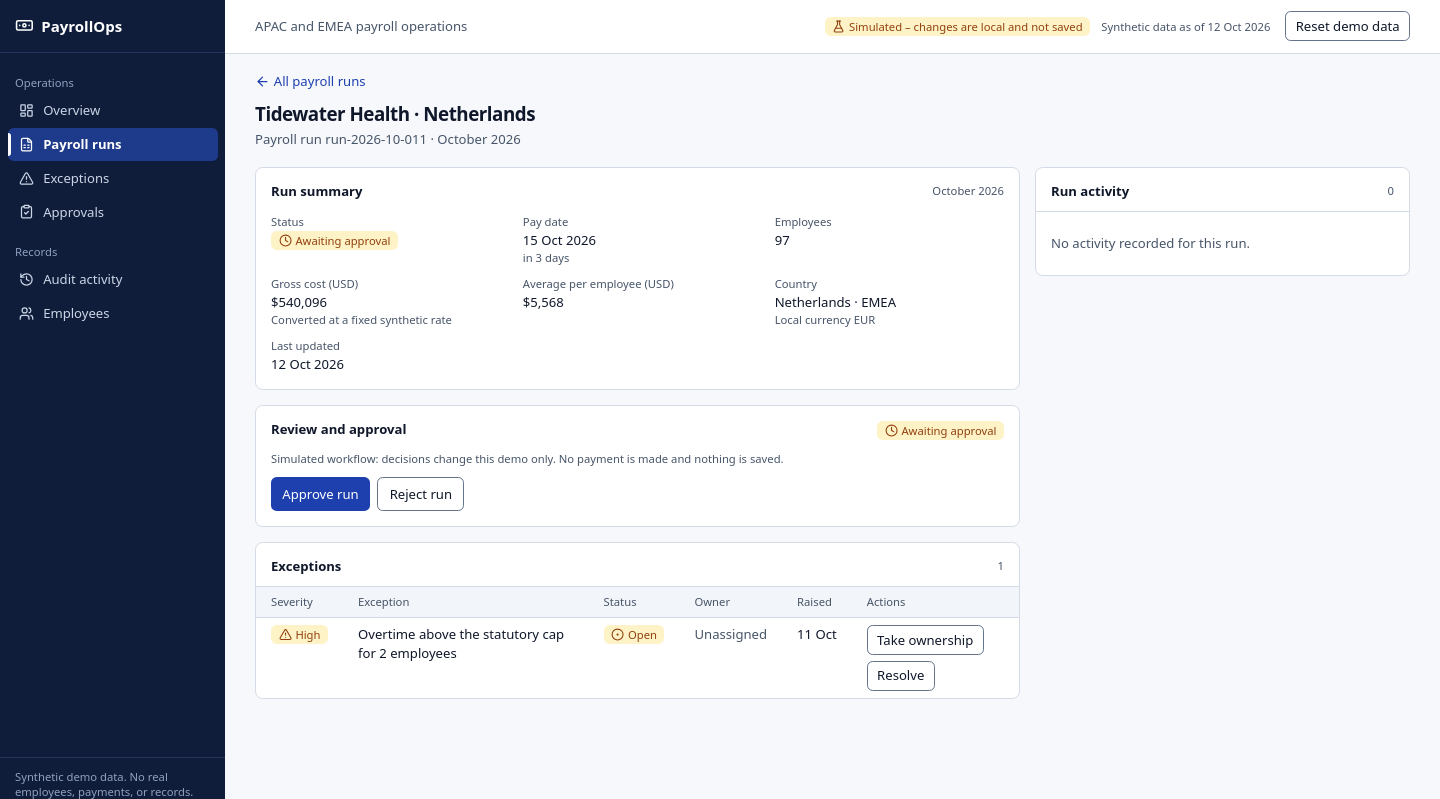
rejecting a run › requires a valid reason, explains the problem accessibly, and keeps the run unchanged until it is valid
Click the button "Reject run": (421, 494) [377,477,464,511]
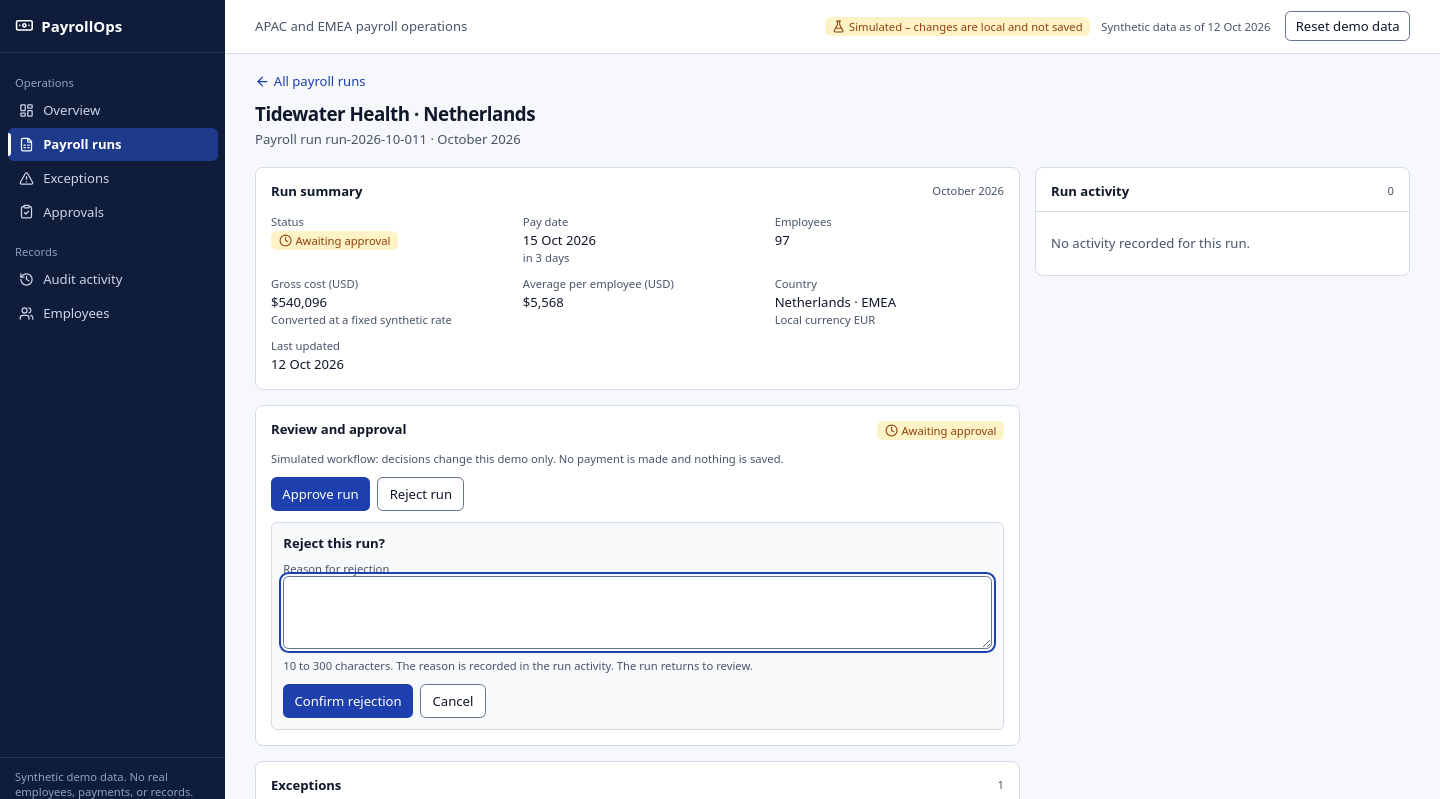
Click the button "Confirm rejection": (348, 701) [283,684,413,718]
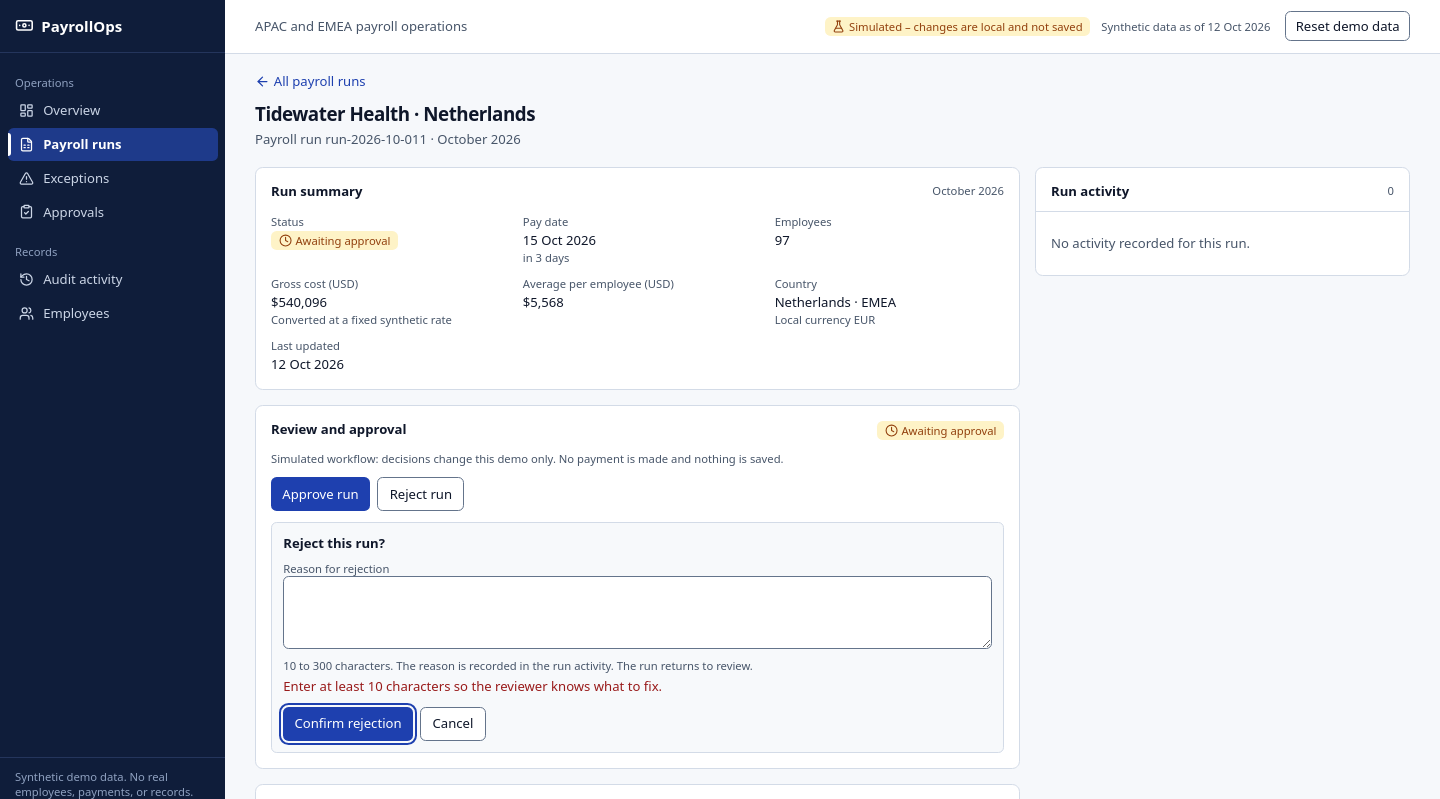
expect the text "Awaiting approval" next to "15 Oct 2026" is shown: met, box [295,233,390,248]
expect the message shows "Enter at least 10 characters": met, box [283,677,662,695]
In the text box labelled "Reason for rejection": (638, 612) [283,576,992,649], type "too short"
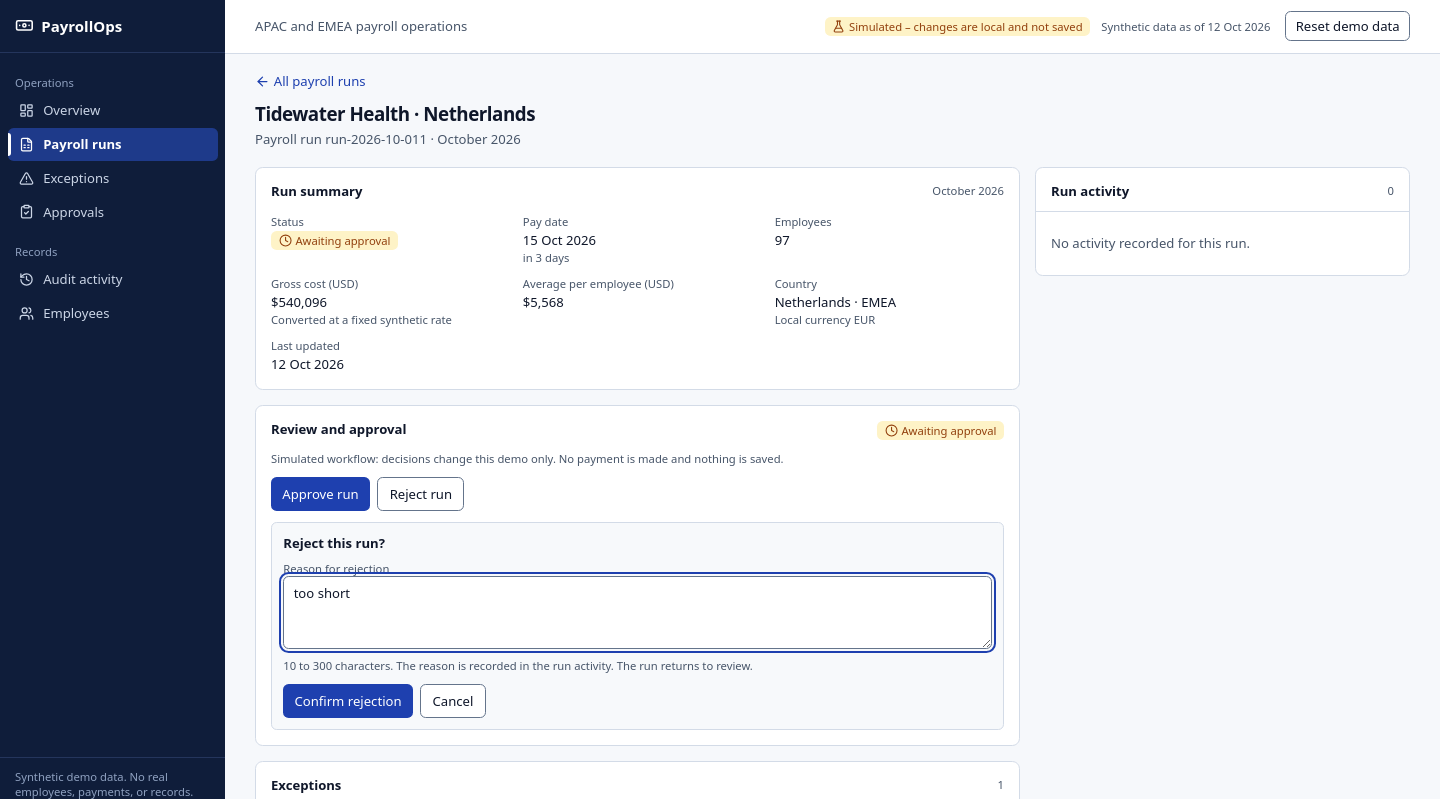
expect the message "Enter at least 10 characters so the reviewer knows what to fix." is gone: met
Click the button "Confirm rejection": (348, 701) [283,684,413,718]
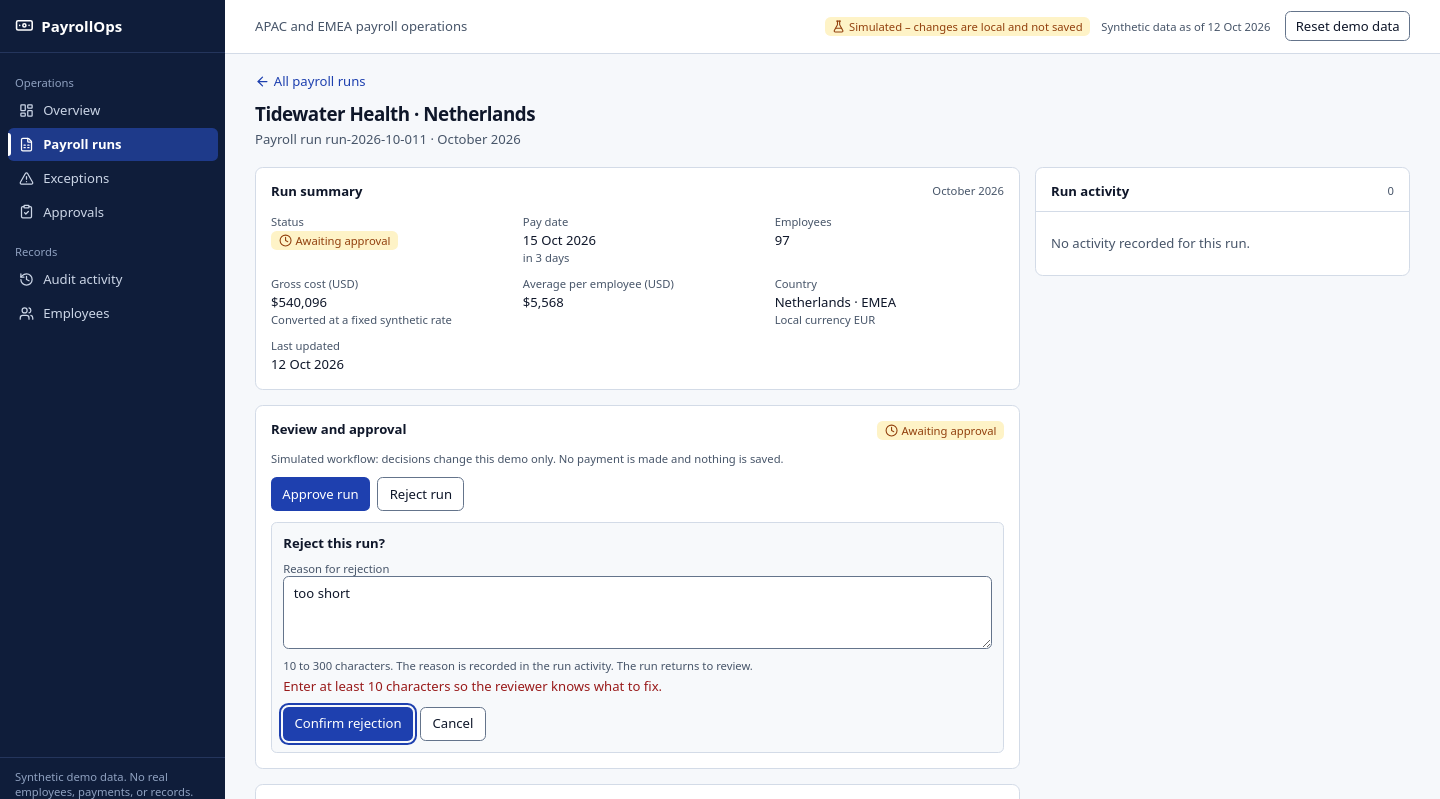
expect the message "Enter at least 10 characters so the reviewer knows what to fix." is shown: met, box [283,677,662,695]
Replace the text in the text box labelled "Reason for rejection" with "Overtime lines need a second review.": (638, 612) [283,576,992,649]
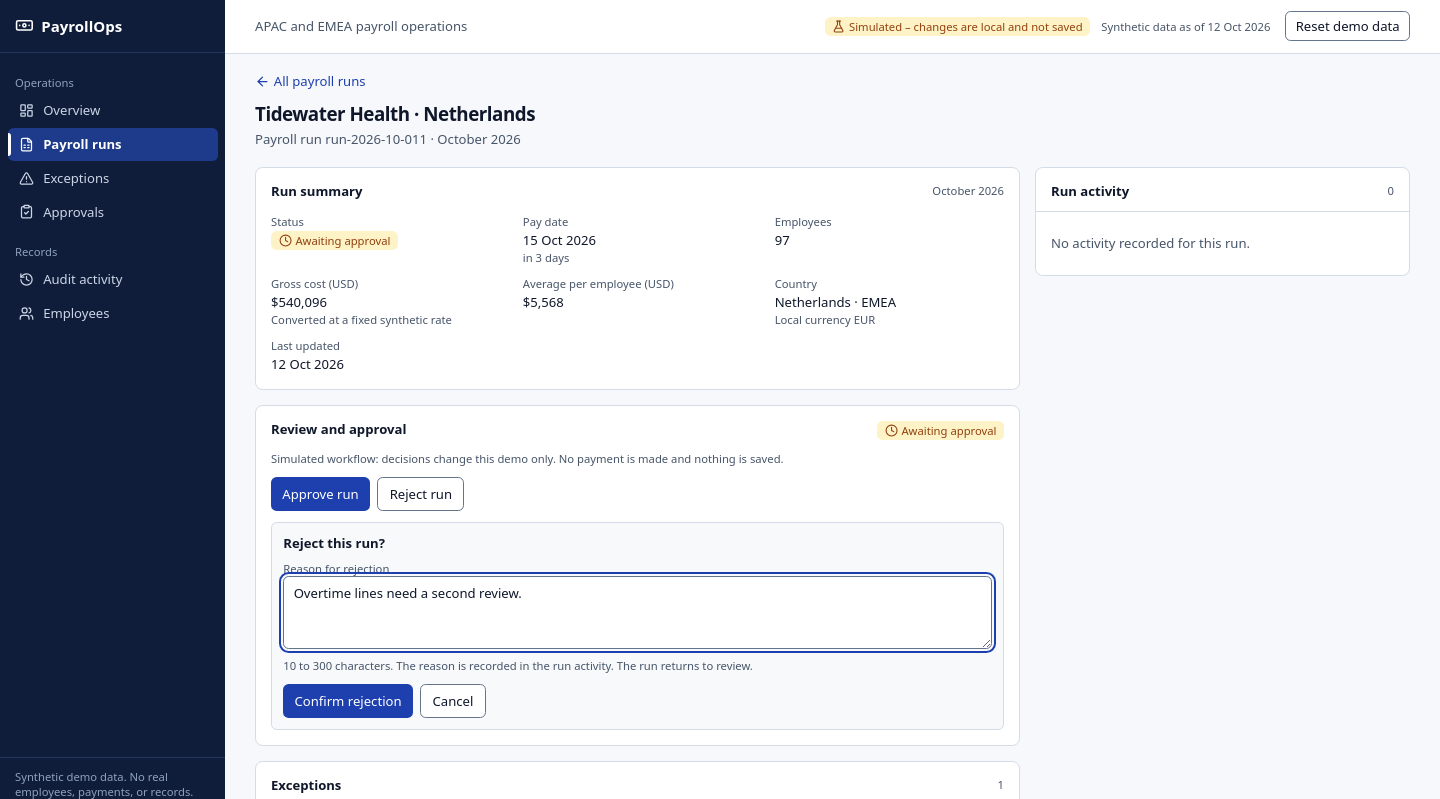
Click the button "Confirm rejection": (348, 701) [283,684,413,718]
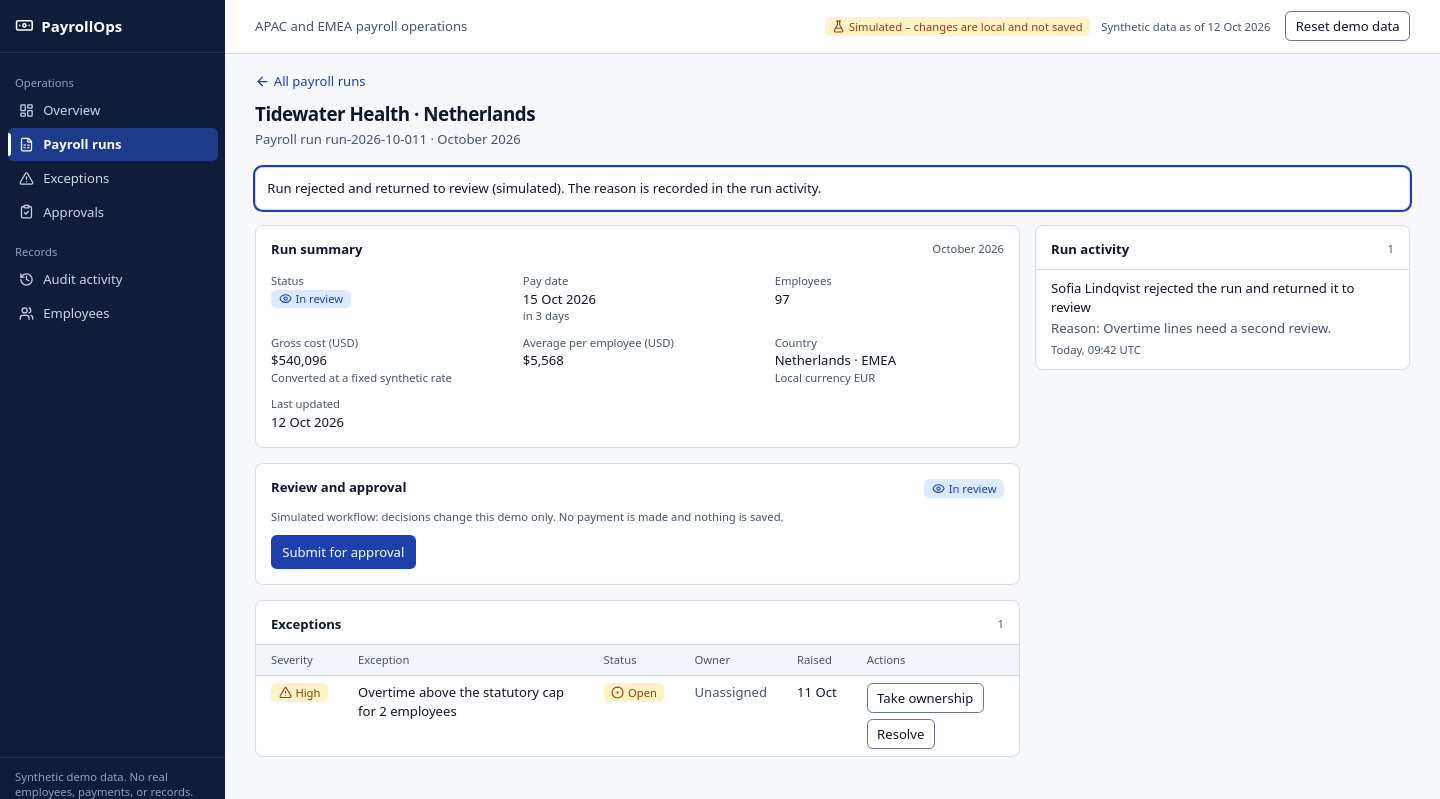
expect the text "In review" in the row of "15 Oct 2026" is shown: met, box [295,292,343,306]
expect the message shows "Run rejected and returned to review (simulated).": met, box [267,179,821,197]
expect the list item that starts with "Sofia Lindqvist" shows "Sofia Lindqvist rejected the run and returned it to review": met, box [1051,279,1354,357]
